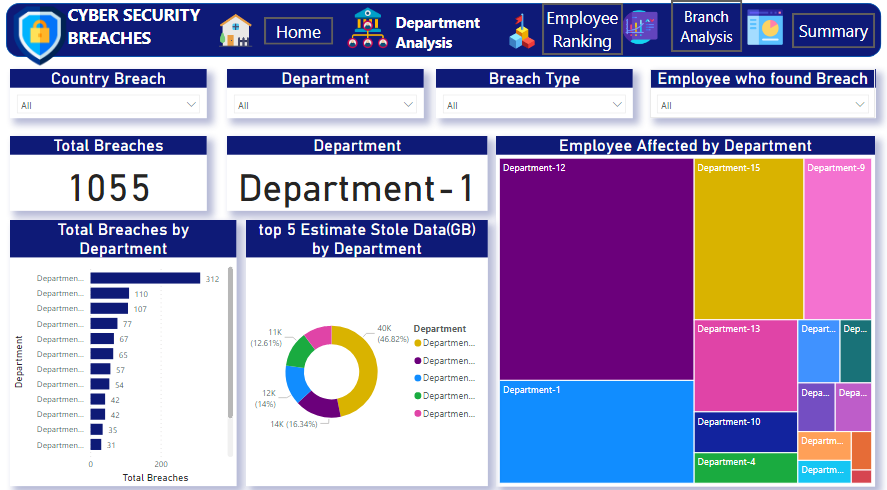

This screenshot's page, from the dashboard's own definition file:
{"tool":"powerbi","page":{"name":"Department Analysis","canvas":[1280,720],"ordinal":2},"visuals":[{"type":"shape","box":[9.2,10.8,1263.1,78.4],"z":0},{"type":"image","box":[0,10.8,115.2,95.3],"z":1000},{"type":"image","box":[298.1,18.4,83,61.5],"z":2000},{"type":"image","box":[716.1,20,75.3,61.5],"z":3000},{"type":"image","box":[878.9,13.8,89.1,61.5],"z":4000},{"type":"image","box":[1060.3,13.8,86.1,61.5],"z":5000},{"type":"textbox","box":[92.2,6.1,205.9,95.3],"z":6000},{"type":"slicer","title":"Country Breach","fields":{"Values":["Cyber Security Breaches.CountryBranch"]},"box":[13.8,106,284.3,70.7],"z":7000},{"type":"slicer","title":"Department","fields":{"Values":["Cyber Security Breaches.Department"]},"box":[327.3,106,284.3,70.7],"z":8000},{"type":"slicer","title":"Breach Type","fields":{"Values":["Cyber Security Breaches.Type_of_Breach"]},"box":[628.5,106,284.3,70.7],"z":9000},{"type":"slicer","title":"Employee who found Breach","fields":{"Values":["Cyber Security Breaches.Employee(who find out breach)"]},"box":[937.3,106,325.8,70.7],"z":10000},{"type":"card","title":"Total Breaches","fields":{"Values":["Cyber Security Breaches.Total Breaches"]},"box":[13.8,201.3,284.3,107.6],"z":11000},{"type":"card","title":"Department","fields":{"Values":["Min(Cyber Security Breaches.Department)"]},"box":[327.3,201.3,376.5,107.6],"z":12000},{"type":"clusteredBarChart","fields":{"Category":["Cyber Security Breaches.Department"],"Y":["Cyber Security Breaches.Total Breaches"]},"box":[13.8,322.7,327.3,384.2],"z":13000},{"type":"treemap","fields":{"Group":["Cyber Security Breaches.Department"],"Values":["Cyber Security Breaches.Employee Affected"]},"box":[716.1,201.3,547,505.5],"z":14000},{"type":"donutChart","title":"top 5 Estimate Stole Data(GB) by Department","fields":{"Category":["Cyber Security Breaches.Department"],"Y":["Sum(Cyber Security Breaches.Estimate Stole Data(GB))"]},"box":[355,322.7,348.8,384.2],"z":15000},{"type":"actionButton","box":[381.1,30.7,99.9,40],"z":16000},{"type":"actionButton","box":[782.1,10.8,116.8,75.3],"z":17000},{"type":"actionButton","box":[1143.2,24.6,119.9,50.7],"z":18000},{"type":"actionButton","box":[968.1,6.1,103,75.3],"z":19000},{"type":"image","box":[488.6,7.7,83,76.8],"z":19002},{"type":"textbox","box":[565.5,18.4,138.3,76.8],"z":19003}]}

Visuals, with their boxes in screenshot pixels (x1, y1, x2, y2), scaled from the page's 1280x720 canvas onto the 887x490 screenshot:
shape: box=[6, 7, 882, 61]
image: box=[0, 7, 80, 72]
image: box=[207, 13, 264, 54]
image: box=[496, 14, 548, 55]
image: box=[609, 9, 671, 51]
image: box=[735, 9, 794, 51]
textbox: box=[64, 4, 207, 69]
"Country Breach" slicer: box=[10, 72, 207, 120]
"Department" slicer: box=[227, 72, 424, 120]
"Breach Type" slicer: box=[436, 72, 633, 120]
"Employee who found Breach" slicer: box=[650, 72, 875, 120]
"Total Breaches" card: box=[10, 137, 207, 210]
"Department" card: box=[227, 137, 488, 210]
clusteredBarChart - Cyber Security Breaches.Department x Cyber Security Breaches.Total Breaches: box=[10, 220, 236, 481]
treemap - Cyber Security Breaches.Department x Cyber Security Breaches.Employee Affected: box=[496, 137, 875, 481]
"top 5 Estimate Stole Data(GB) by Department" donutChart: box=[246, 220, 488, 481]
actionButton: box=[264, 21, 333, 48]
actionButton: box=[542, 7, 623, 59]
actionButton: box=[792, 17, 875, 51]
actionButton: box=[671, 4, 742, 55]
image: box=[339, 5, 396, 58]
textbox: box=[392, 13, 488, 65]
